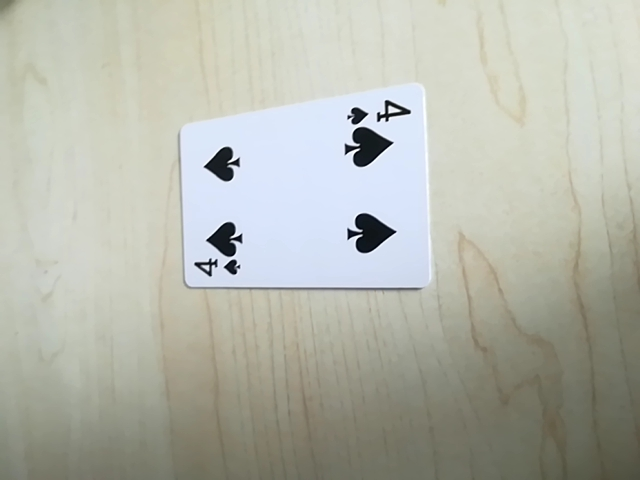ht 4: (342, 93, 413, 125), (186, 251, 246, 284)
